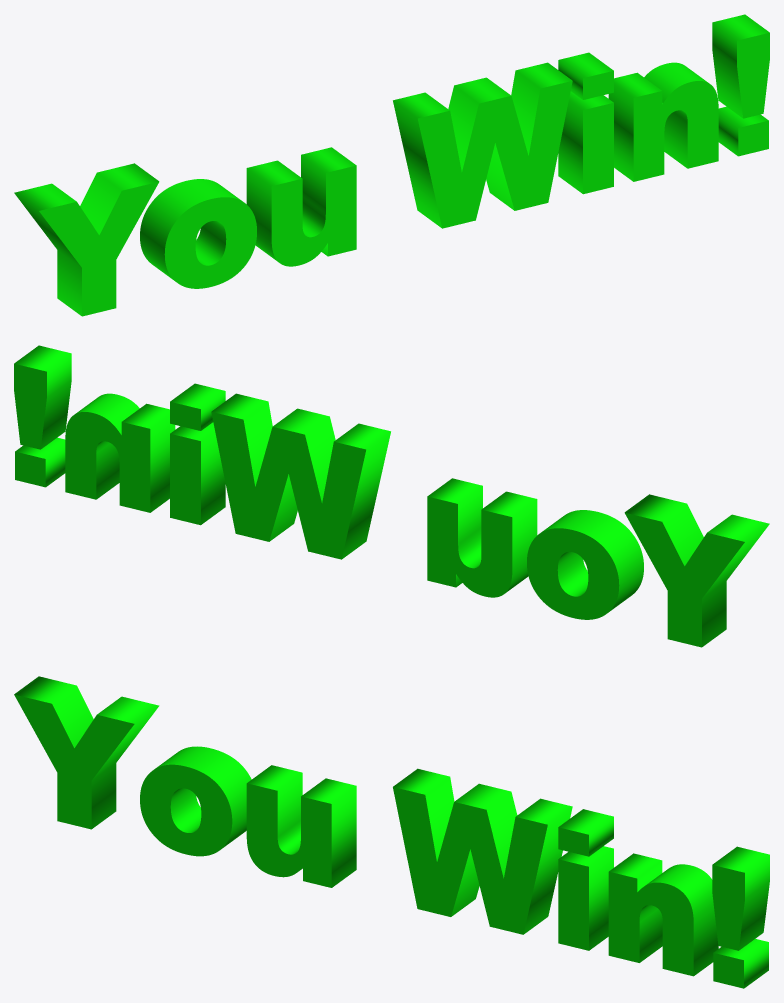
Rendered from youwin.obj.
3 renders of one model, top to bottom at view 1: azimuth 30°, elevation 25°; view 2: azimuth 150°, elevation 25°; view 3: azimuth 330°, elevation 25°, orthographic.
Visible parts, largest first — view 1: Text_Mesh; view 2: Text_Mesh; view 3: Text_Mesh.
Part boxes in pixels (bbox=[...]): Text_Mesh: bbox=[14, 14, 769, 316]; Text_Mesh: bbox=[14, 345, 769, 647]; Text_Mesh: bbox=[14, 676, 769, 988].
Size of the model in its own units: 16.97 by 2.62 by 1.
